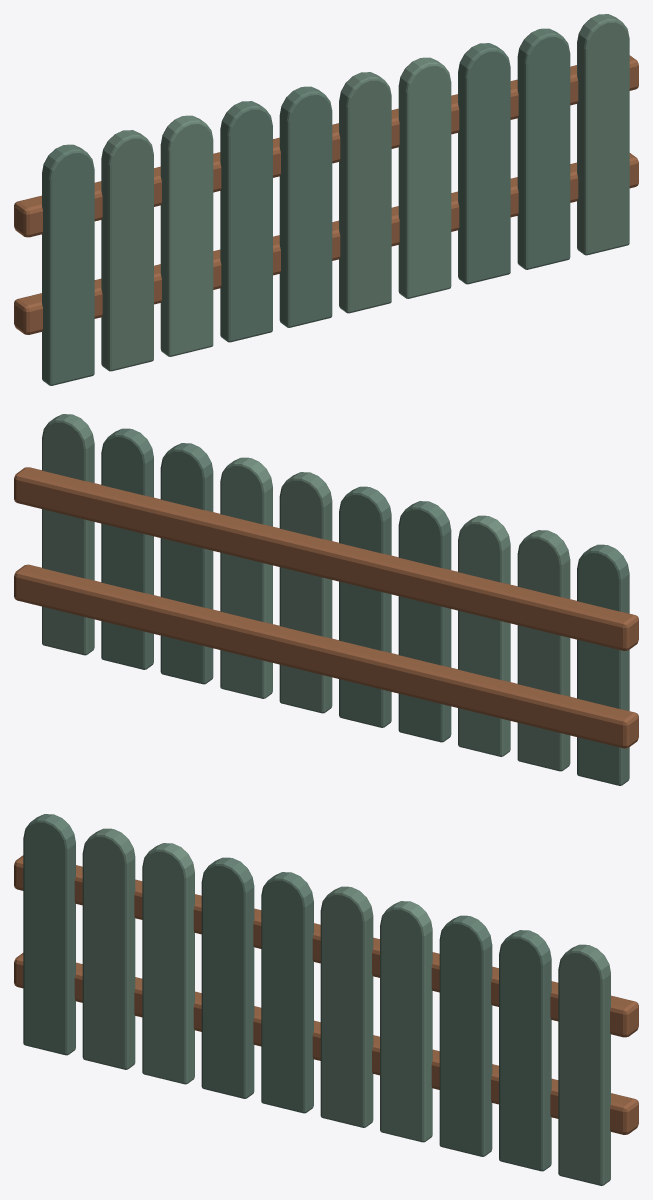
The model's file is CV_Panel_3m.glb.
The picture shows the model from 3 angles, top to bottom: view 1: azimuth 30°, elevation 25°; view 2: azimuth 150°, elevation 25°; view 3: azimuth 330°, elevation 25°; orthographic projection.
Visible parts, largest first — view 1: CV_StraightPanel_Picket_07.001, CV_StraightPanel_Picket_09.001, CV_StraightPanel_Picket_05.001, CV_StraightPanel_Picket_03.001, CV_StraightPanel_Picket_01.001, CV_StraightPanel_Picket_06.001, CV_StraightPanel_Picket_02.001, CV_StraightPanel_Picket_10.001, CV_StraightPanel_Picket_04.001, CV_StraightPanel_Picket_08.001, CV_StraightPanel_Back_Rail.003, CV_StraightPanel_Back_Rail.002; view 2: CV_StraightPanel_Back_Rail.002, CV_StraightPanel_Back_Rail.003, CV_StraightPanel_Picket_06.001, CV_StraightPanel_Picket_08.001, CV_StraightPanel_Picket_02.001, CV_StraightPanel_Picket_04.001, CV_StraightPanel_Picket_01.001, CV_StraightPanel_Picket_09.001, CV_StraightPanel_Picket_05.001, CV_StraightPanel_Picket_10.001, CV_StraightPanel_Picket_03.001, CV_StraightPanel_Picket_07.001; view 3: CV_StraightPanel_Picket_04.001, CV_StraightPanel_Picket_02.001, CV_StraightPanel_Picket_06.001, CV_StraightPanel_Picket_08.001, CV_StraightPanel_Picket_10.001, CV_StraightPanel_Picket_05.001, CV_StraightPanel_Picket_01.001, CV_StraightPanel_Picket_09.001, CV_StraightPanel_Picket_03.001, CV_StraightPanel_Picket_07.001, CV_StraightPanel_Back_Rail.003, CV_StraightPanel_Back_Rail.002.
Part boxes in pixels (<box>): CV_StraightPanel_Picket_07.001: <box>398,57,451,298</box>; CV_StraightPanel_Picket_09.001: <box>517,28,570,269</box>; CV_StraightPanel_Picket_05.001: <box>279,86,332,327</box>; CV_StraightPanel_Picket_03.001: <box>160,115,213,356</box>; CV_StraightPanel_Picket_01.001: <box>42,144,94,385</box>; CV_StraightPanel_Picket_06.001: <box>339,72,391,313</box>; CV_StraightPanel_Picket_02.001: <box>101,130,153,371</box>; CV_StraightPanel_Picket_10.001: <box>577,14,629,255</box>; CV_StraightPanel_Picket_04.001: <box>220,101,272,342</box>; CV_StraightPanel_Picket_08.001: <box>458,43,510,284</box>; CV_StraightPanel_Back_Rail.003: <box>14,55,638,237</box>; CV_StraightPanel_Back_Rail.002: <box>14,153,638,334</box>; CV_StraightPanel_Back_Rail.002: <box>14,564,638,748</box>; CV_StraightPanel_Back_Rail.003: <box>14,467,638,650</box>; CV_StraightPanel_Picket_06.001: <box>279,472,332,713</box>; CV_StraightPanel_Picket_08.001: <box>160,443,213,684</box>; CV_StraightPanel_Picket_02.001: <box>517,530,570,771</box>; CV_StraightPanel_Picket_04.001: <box>398,501,451,742</box>; CV_StraightPanel_Picket_01.001: <box>577,544,629,785</box>; CV_StraightPanel_Picket_09.001: <box>101,428,153,669</box>; CV_StraightPanel_Picket_05.001: <box>339,486,391,727</box>; CV_StraightPanel_Picket_10.001: <box>42,414,94,655</box>; CV_StraightPanel_Picket_03.001: <box>458,515,510,756</box>; CV_StraightPanel_Picket_07.001: <box>220,457,272,698</box>; CV_StraightPanel_Picket_04.001: <box>201,857,254,1098</box>; CV_StraightPanel_Picket_02.001: <box>82,828,135,1069</box>; CV_StraightPanel_Picket_06.001: <box>320,886,373,1127</box>; CV_StraightPanel_Picket_08.001: <box>439,915,492,1156</box>; CV_StraightPanel_Picket_10.001: <box>558,944,610,1185</box>; CV_StraightPanel_Picket_05.001: <box>261,872,313,1113</box>; CV_StraightPanel_Picket_01.001: <box>23,814,75,1055</box>; CV_StraightPanel_Picket_09.001: <box>499,930,551,1171</box>; CV_StraightPanel_Picket_03.001: <box>142,843,194,1084</box>; CV_StraightPanel_Picket_07.001: <box>380,901,432,1142</box>; CV_StraightPanel_Back_Rail.003: <box>14,855,638,1037</box>; CV_StraightPanel_Back_Rail.002: <box>14,953,638,1134</box>.
Bounding box in the file's own units: 2.84 × 1.02 × 0.1665.
